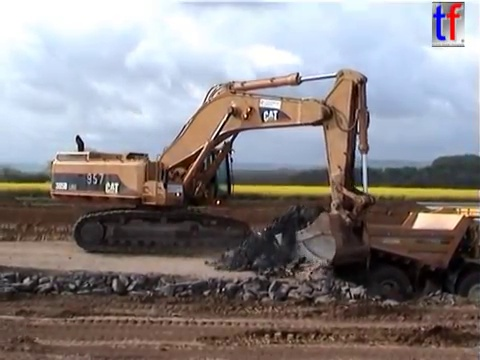excavator: (47, 65, 379, 274)
truck: (291, 205, 480, 314)
